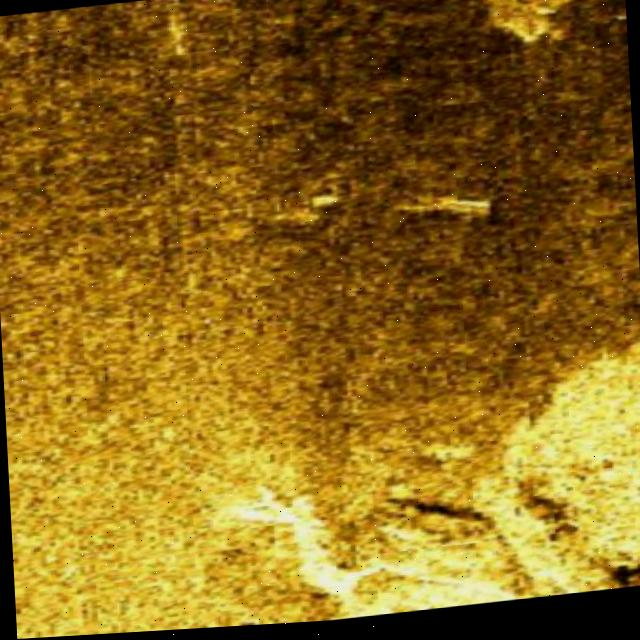bedrock group: (204, 350, 640, 630)
